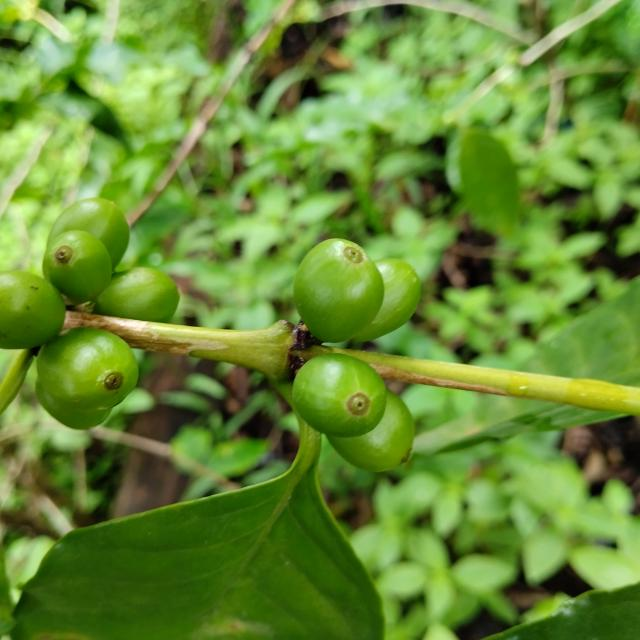green: (294, 238, 384, 342), (36, 328, 138, 411), (292, 354, 387, 438), (328, 390, 415, 472), (47, 197, 129, 269), (353, 258, 421, 342), (0, 270, 65, 349), (42, 230, 111, 304), (93, 267, 179, 323), (35, 379, 111, 430)
